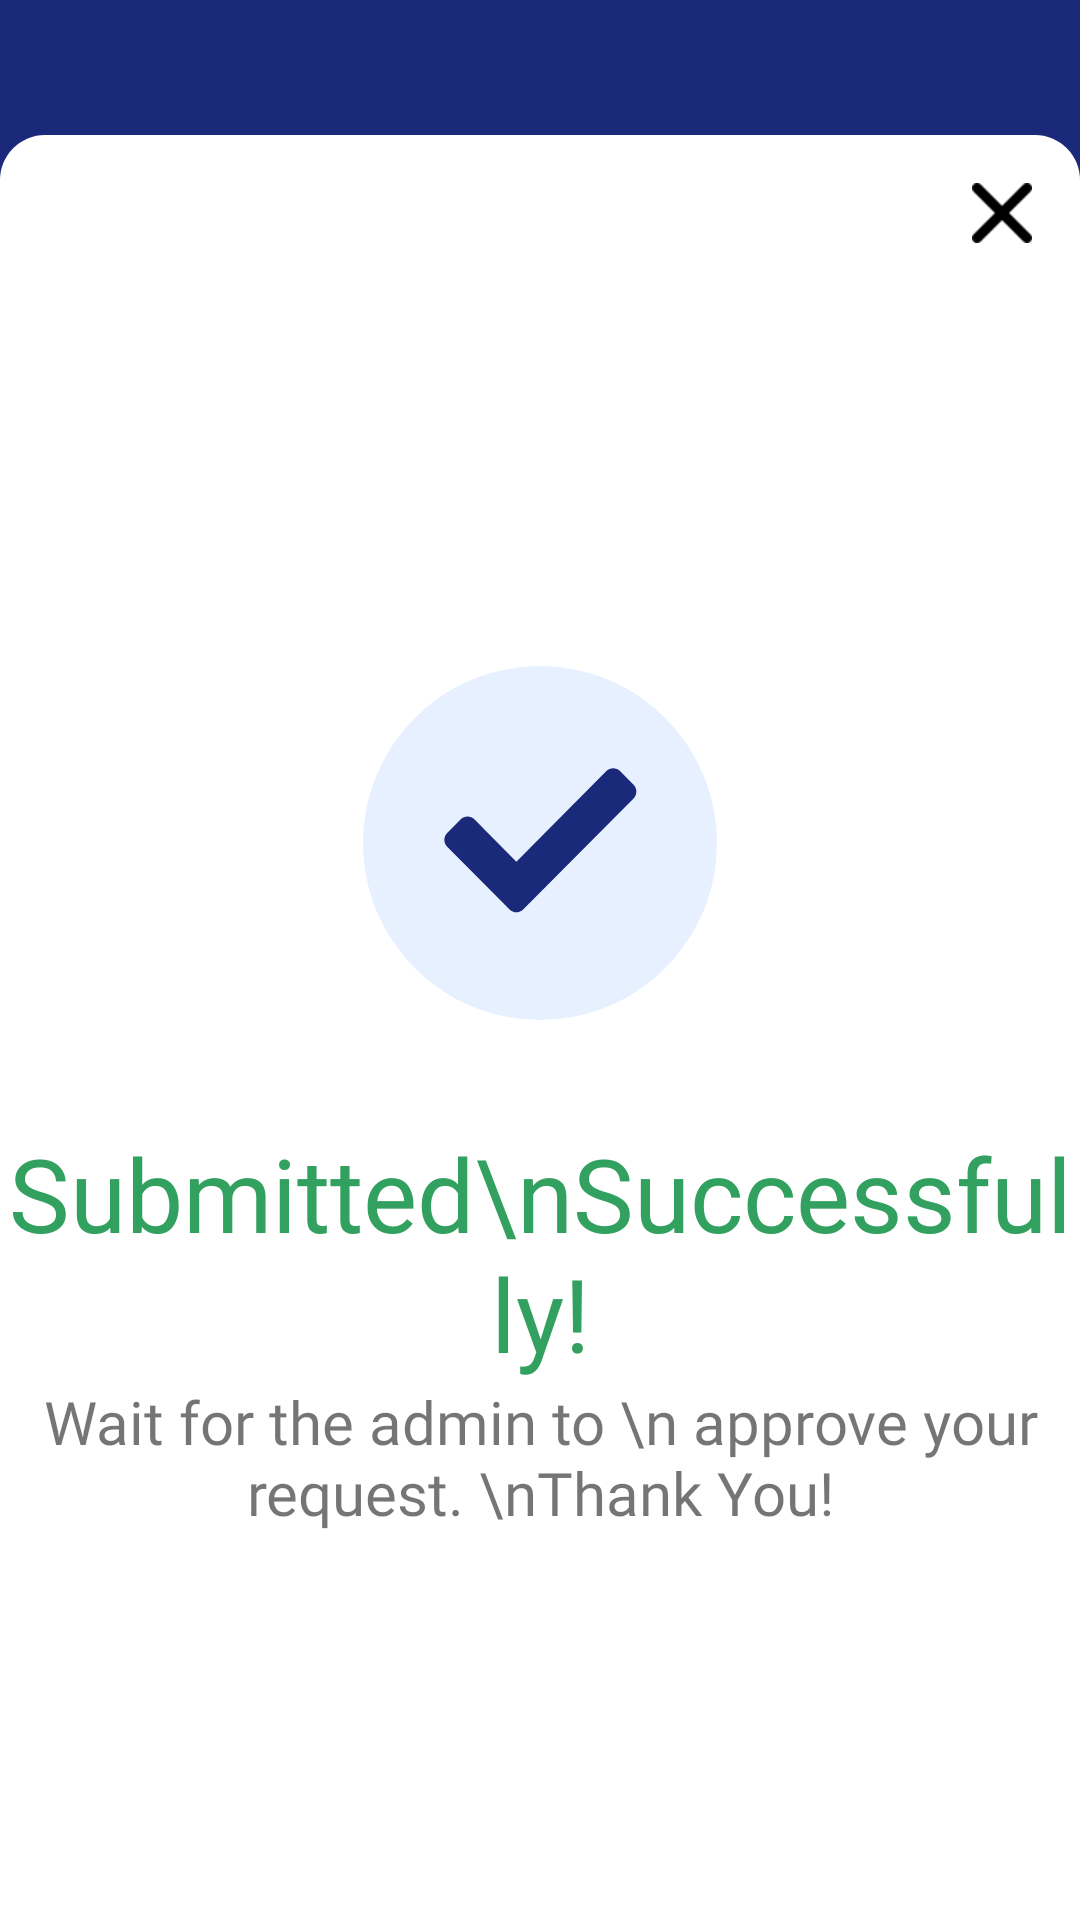

Where to tap for icons on this 1080w x 1920h app screen, as (x=x, y=y):
exit: (x=1002, y=213)
